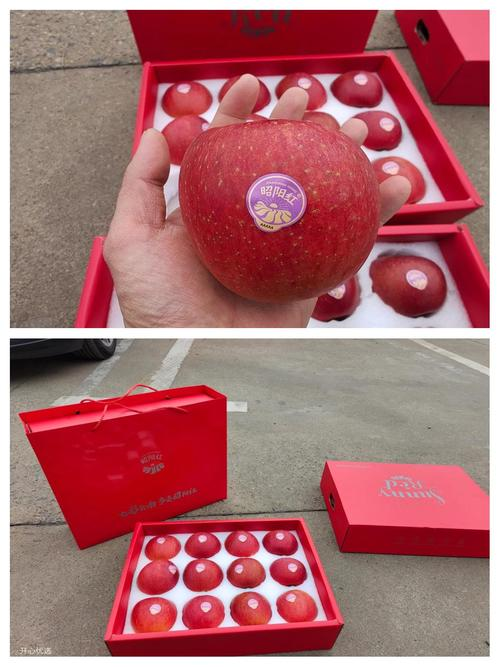ripe: (174, 117, 393, 299)
